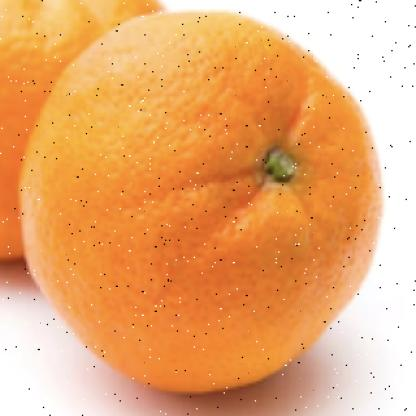fresh: (21, 11, 380, 396)
